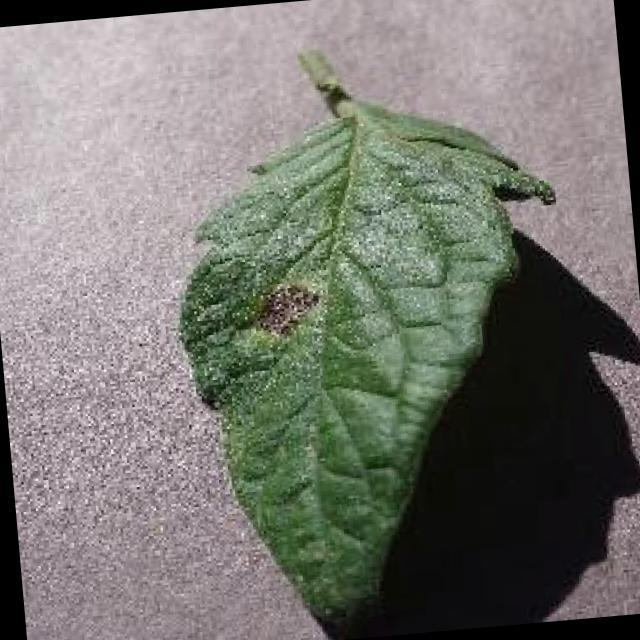Tomato Early blight leaf: (158, 80, 596, 636)
